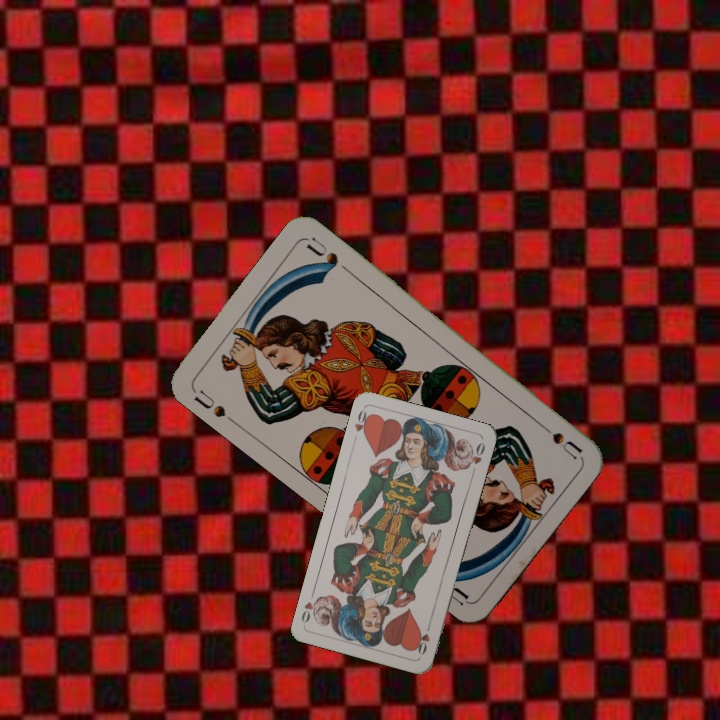HO: (350, 406, 373, 445), (413, 619, 433, 658)
SU: (532, 416, 585, 462), (189, 384, 238, 427)
